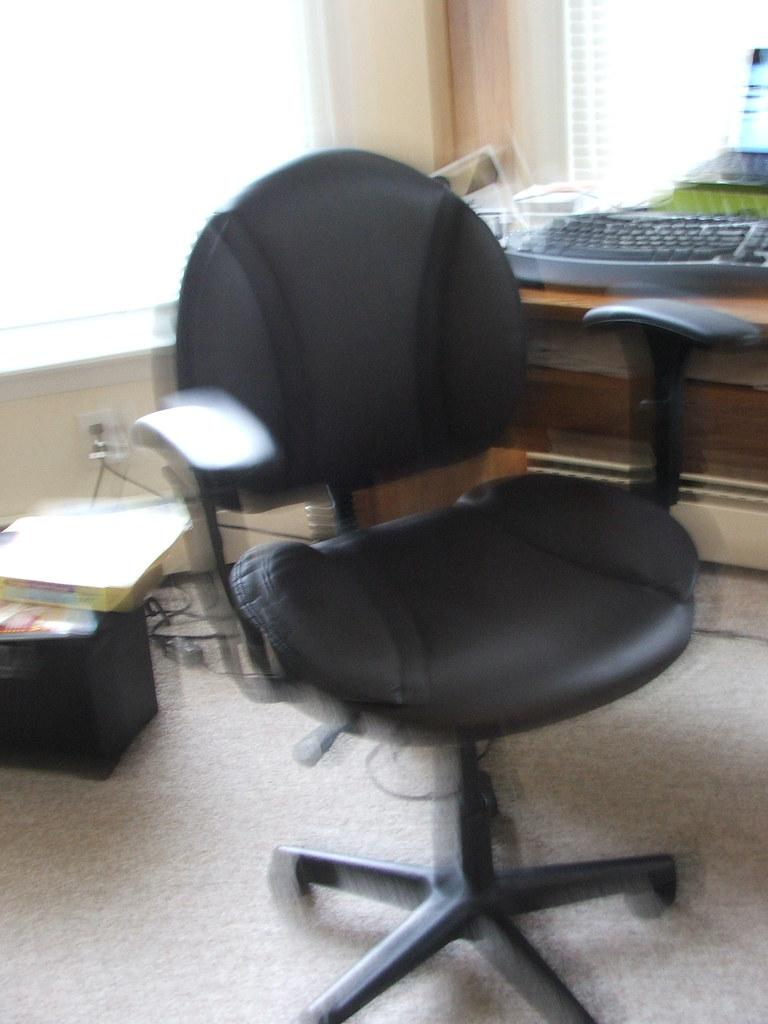chair: (131, 147, 763, 1023)
